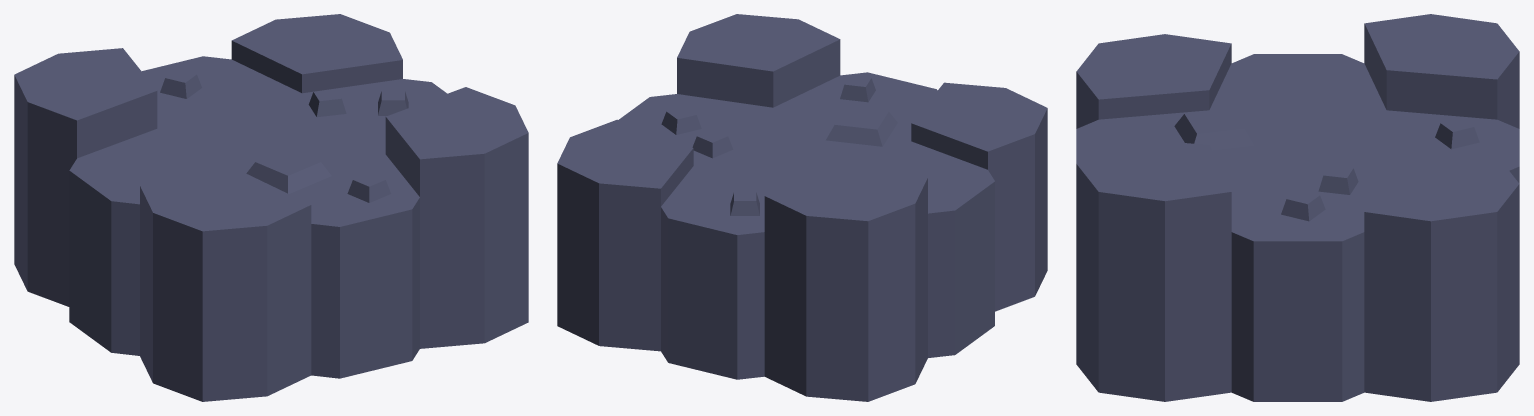
Rendered from kenney_mini-dungeon__rocks__cave.fbx.
3 views of the same model, side by side, from view 1: azimuth 30°, elevation 25°; view 2: azimuth 150°, elevation 25°; view 3: azimuth 270°, elevation 25° (orthographic). The views are drawn at different scales.
Parts seen in each view (by area): view 1: kenney_mini-dungeon__rocks__cave_stone; view 2: kenney_mini-dungeon__rocks__cave_stone; view 3: kenney_mini-dungeon__rocks__cave_stone.
Part boxes in pixels (x1,y1,x2,y2): kenney_mini-dungeon__rocks__cave_stone: [14, 14, 528, 401]; kenney_mini-dungeon__rocks__cave_stone: [557, 14, 1047, 401]; kenney_mini-dungeon__rocks__cave_stone: [1076, 14, 1519, 401].
Size of the model in its own units: 3.57 by 1.79 by 3.57.
Materials: 1 (1 with a texture image).
